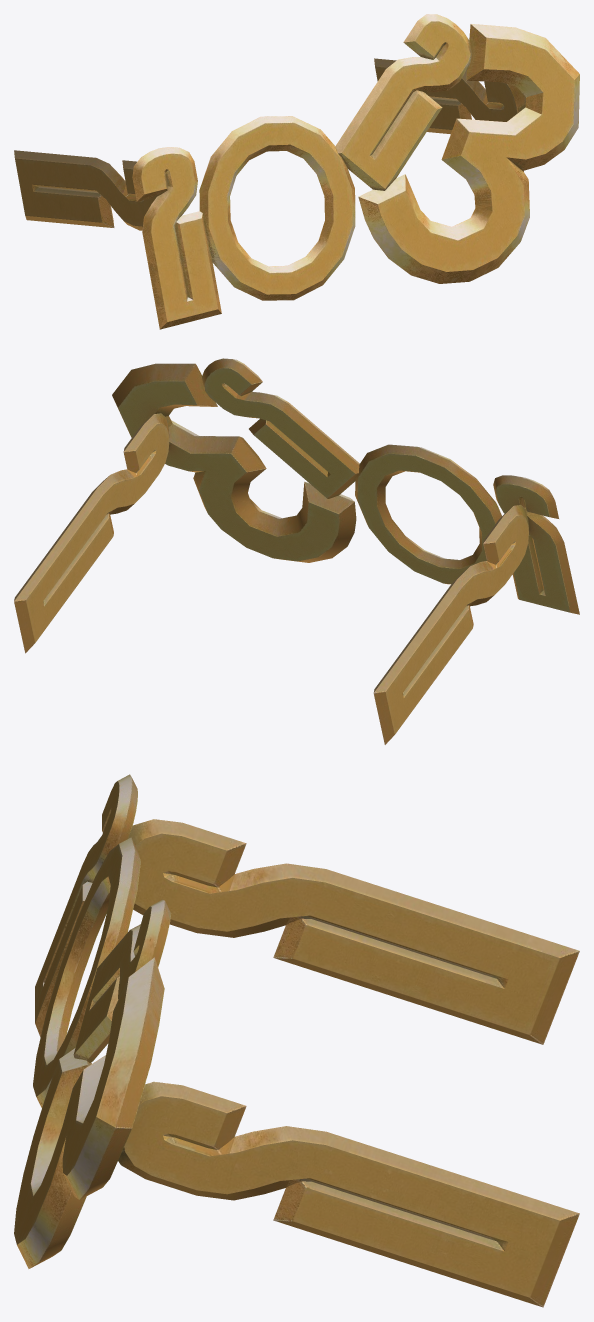
3 renders of one model, top to bottom at view 1: azimuth 30°, elevation 25°; view 2: azimuth 150°, elevation 25°; view 3: azimuth 270°, elevation 25°, orthographic. The views are drawn at different scales.
Parts seen in each view (by area): view 1: NYE Glasses; view 2: NYE Glasses; view 3: NYE Glasses.
Part boxes in pixels (<box>): NYE Glasses: <box>14,14,579,329</box>; NYE Glasses: <box>14,358,579,744</box>; NYE Glasses: <box>14,774,579,1307</box>.
Bounding box in the file's own units: 0.6067 × 0.3036 × 0.4364.
1 material, 1 textured.
